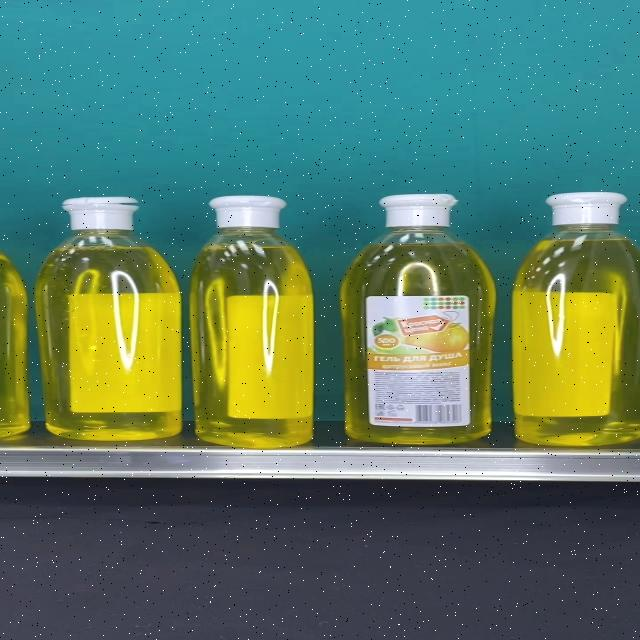Bottle: (341, 194, 496, 444), (36, 196, 182, 441), (512, 192, 640, 446), (190, 196, 312, 449)
Cap: (546, 192, 628, 226), (377, 194, 459, 227), (62, 197, 139, 231), (209, 196, 287, 229)
